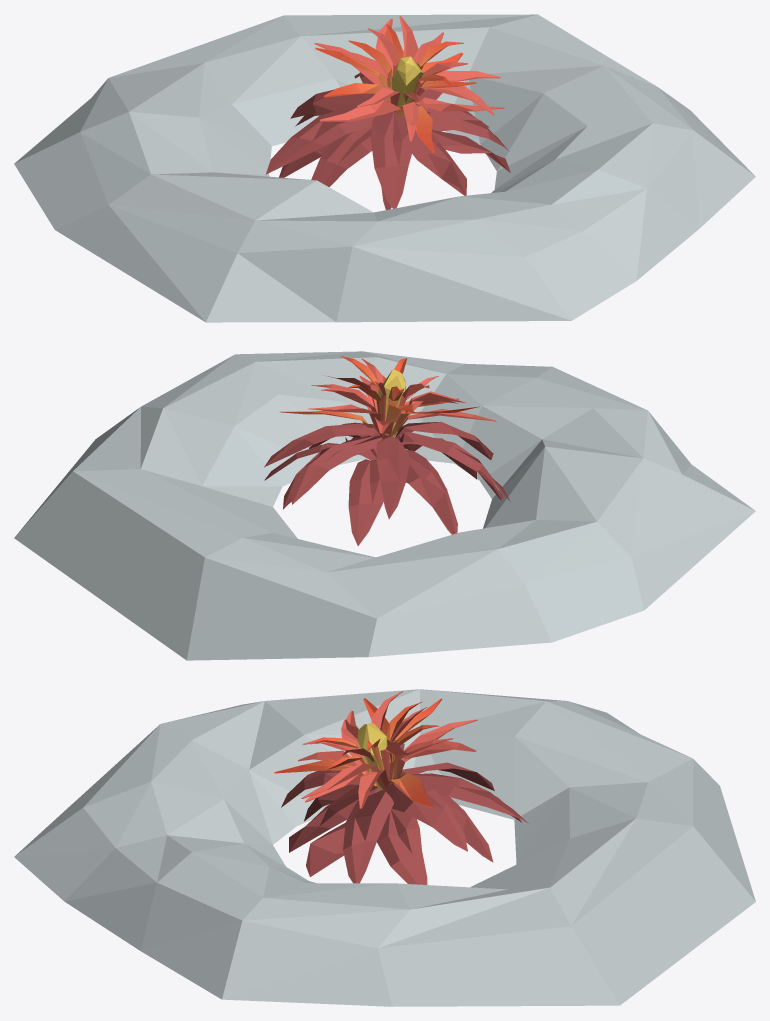
The model's file is snowFiresilk.fbx.
3 renders of one model, top to bottom at view 1: azimuth 30°, elevation 25°; view 2: azimuth 150°, elevation 25°; view 3: azimuth 270°, elevation 25°, orthographic. The views are drawn at different scales.
Visible parts, largest first — view 1: snowFiresilk; view 2: snowFiresilk; view 3: snowFiresilk.
Boxes of the visible parts, bbox=[...] form: snowFiresilk: bbox=[14, 14, 755, 322]; snowFiresilk: bbox=[14, 351, 755, 660]; snowFiresilk: bbox=[14, 689, 755, 1006].
Size of the model in its own units: 2.74 by 0.7618 by 2.88.
Materials: 2 (2 with a texture image).
